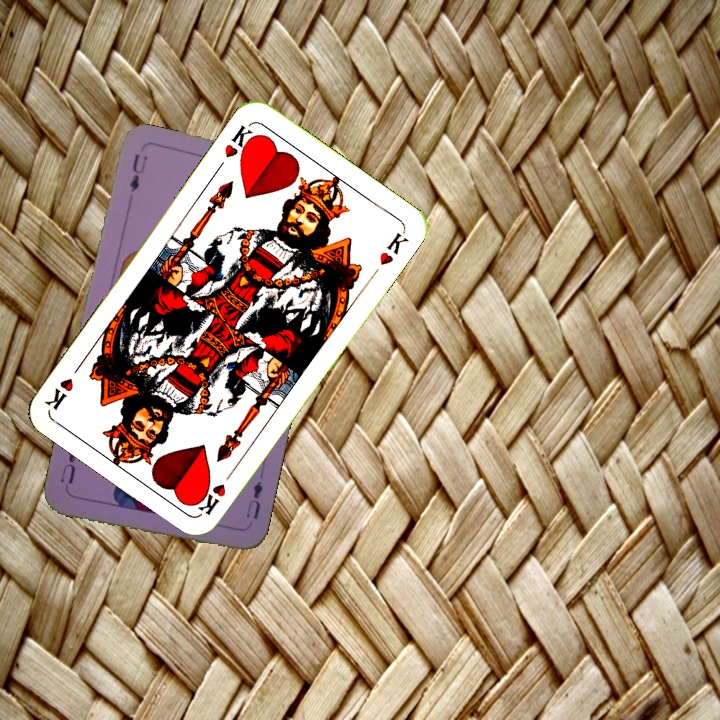EU: (125, 149, 150, 195), (242, 477, 266, 522)
HK: (214, 120, 260, 172), (194, 464, 238, 518)
